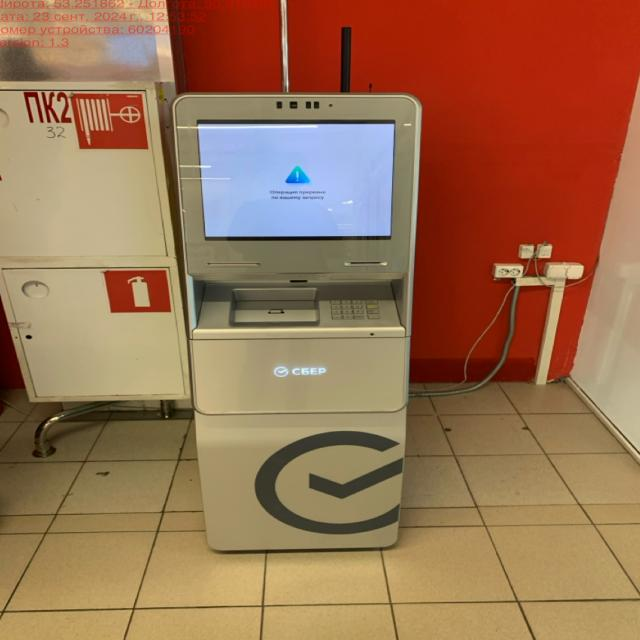bank: (168, 88, 420, 558)
